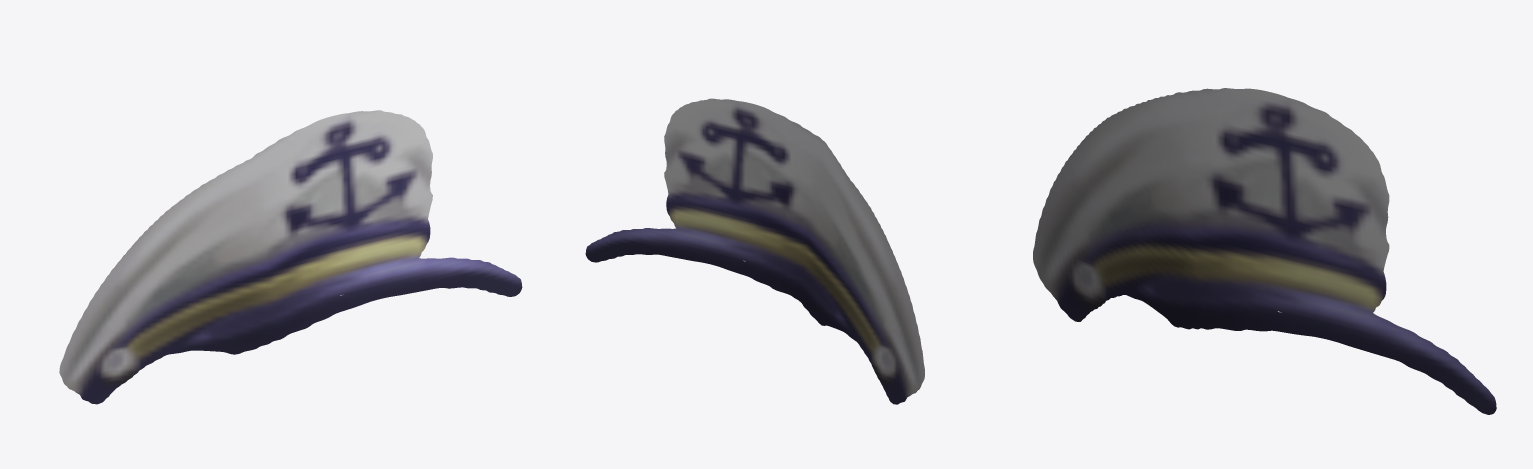
File: Captain Hat.FBX
3 renders of one model, left to right at view 1: azimuth 30°, elevation 25°; view 2: azimuth 150°, elevation 25°; view 3: azimuth 330°, elevation 25°, orthographic. The views are drawn at different scales.
Parts seen in each view (by area): view 1: Captain Hat; view 2: Captain Hat; view 3: Captain Hat.
Part boxes in pixels (x1=…): Captain Hat: x1=59, y1=110, x2=522, y2=404; Captain Hat: x1=585, y1=98, x2=924, y2=404; Captain Hat: x1=1033, y1=88, x2=1496, y2=414.
Size of the model in its own units: 86.55 by 12.91 by 63.85.
